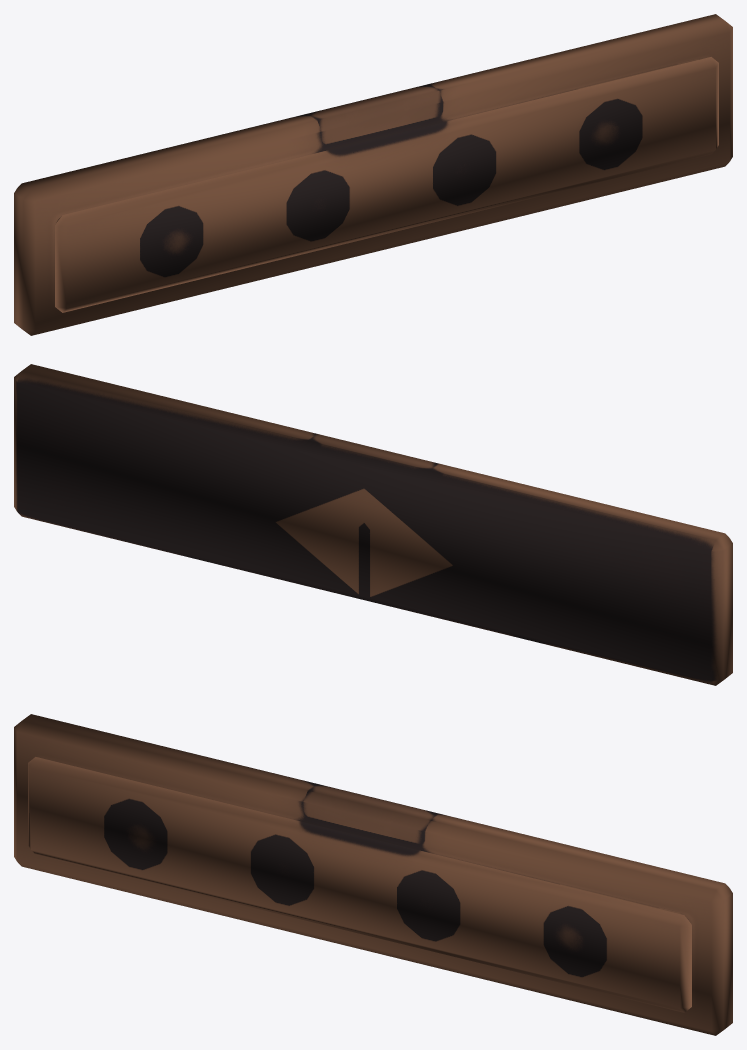
File: Remache_PunoDer_Oxido.fbx
3 views of the same model, one above another, from view 1: azimuth 30°, elevation 25°; view 2: azimuth 150°, elevation 25°; view 3: azimuth 330°, elevation 25° (orthographic).
Parts seen in each view (by area): view 1: Remache_PunoDer_Oxido; view 2: Remache_PunoDer_Oxido; view 3: Remache_PunoDer_Oxido.
Boxes of the visible parts, x1,y1,x2,y2 form: Remache_PunoDer_Oxido: (14,14,732,335); Remache_PunoDer_Oxido: (14,364,732,685); Remache_PunoDer_Oxido: (14,714,732,1035).
Size of the model in its own units: 2 by 0.3929 by 0.1321.
